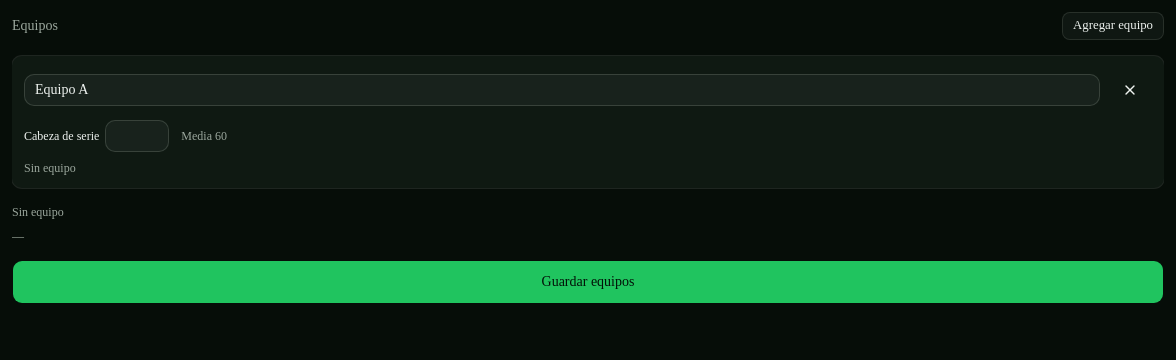
it: EntriesEditor editable mode › blocks save with fewer than 2 entries and shows the error
The image size is (1176, 360).
Click the button "Guardar equipos" at {"x": 588, "y": 282}, box [12,260,1164,304]
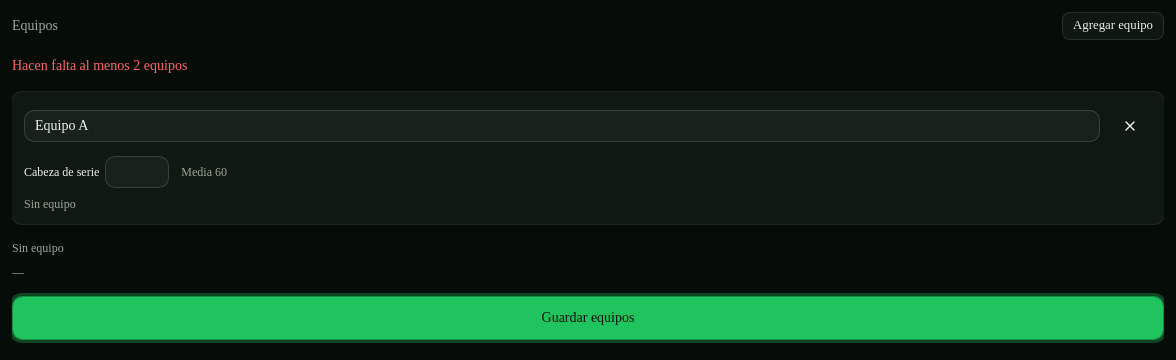
Check: the text "Hacen falta al menos 2 equipos" is shown, box [12,58,187,73]
